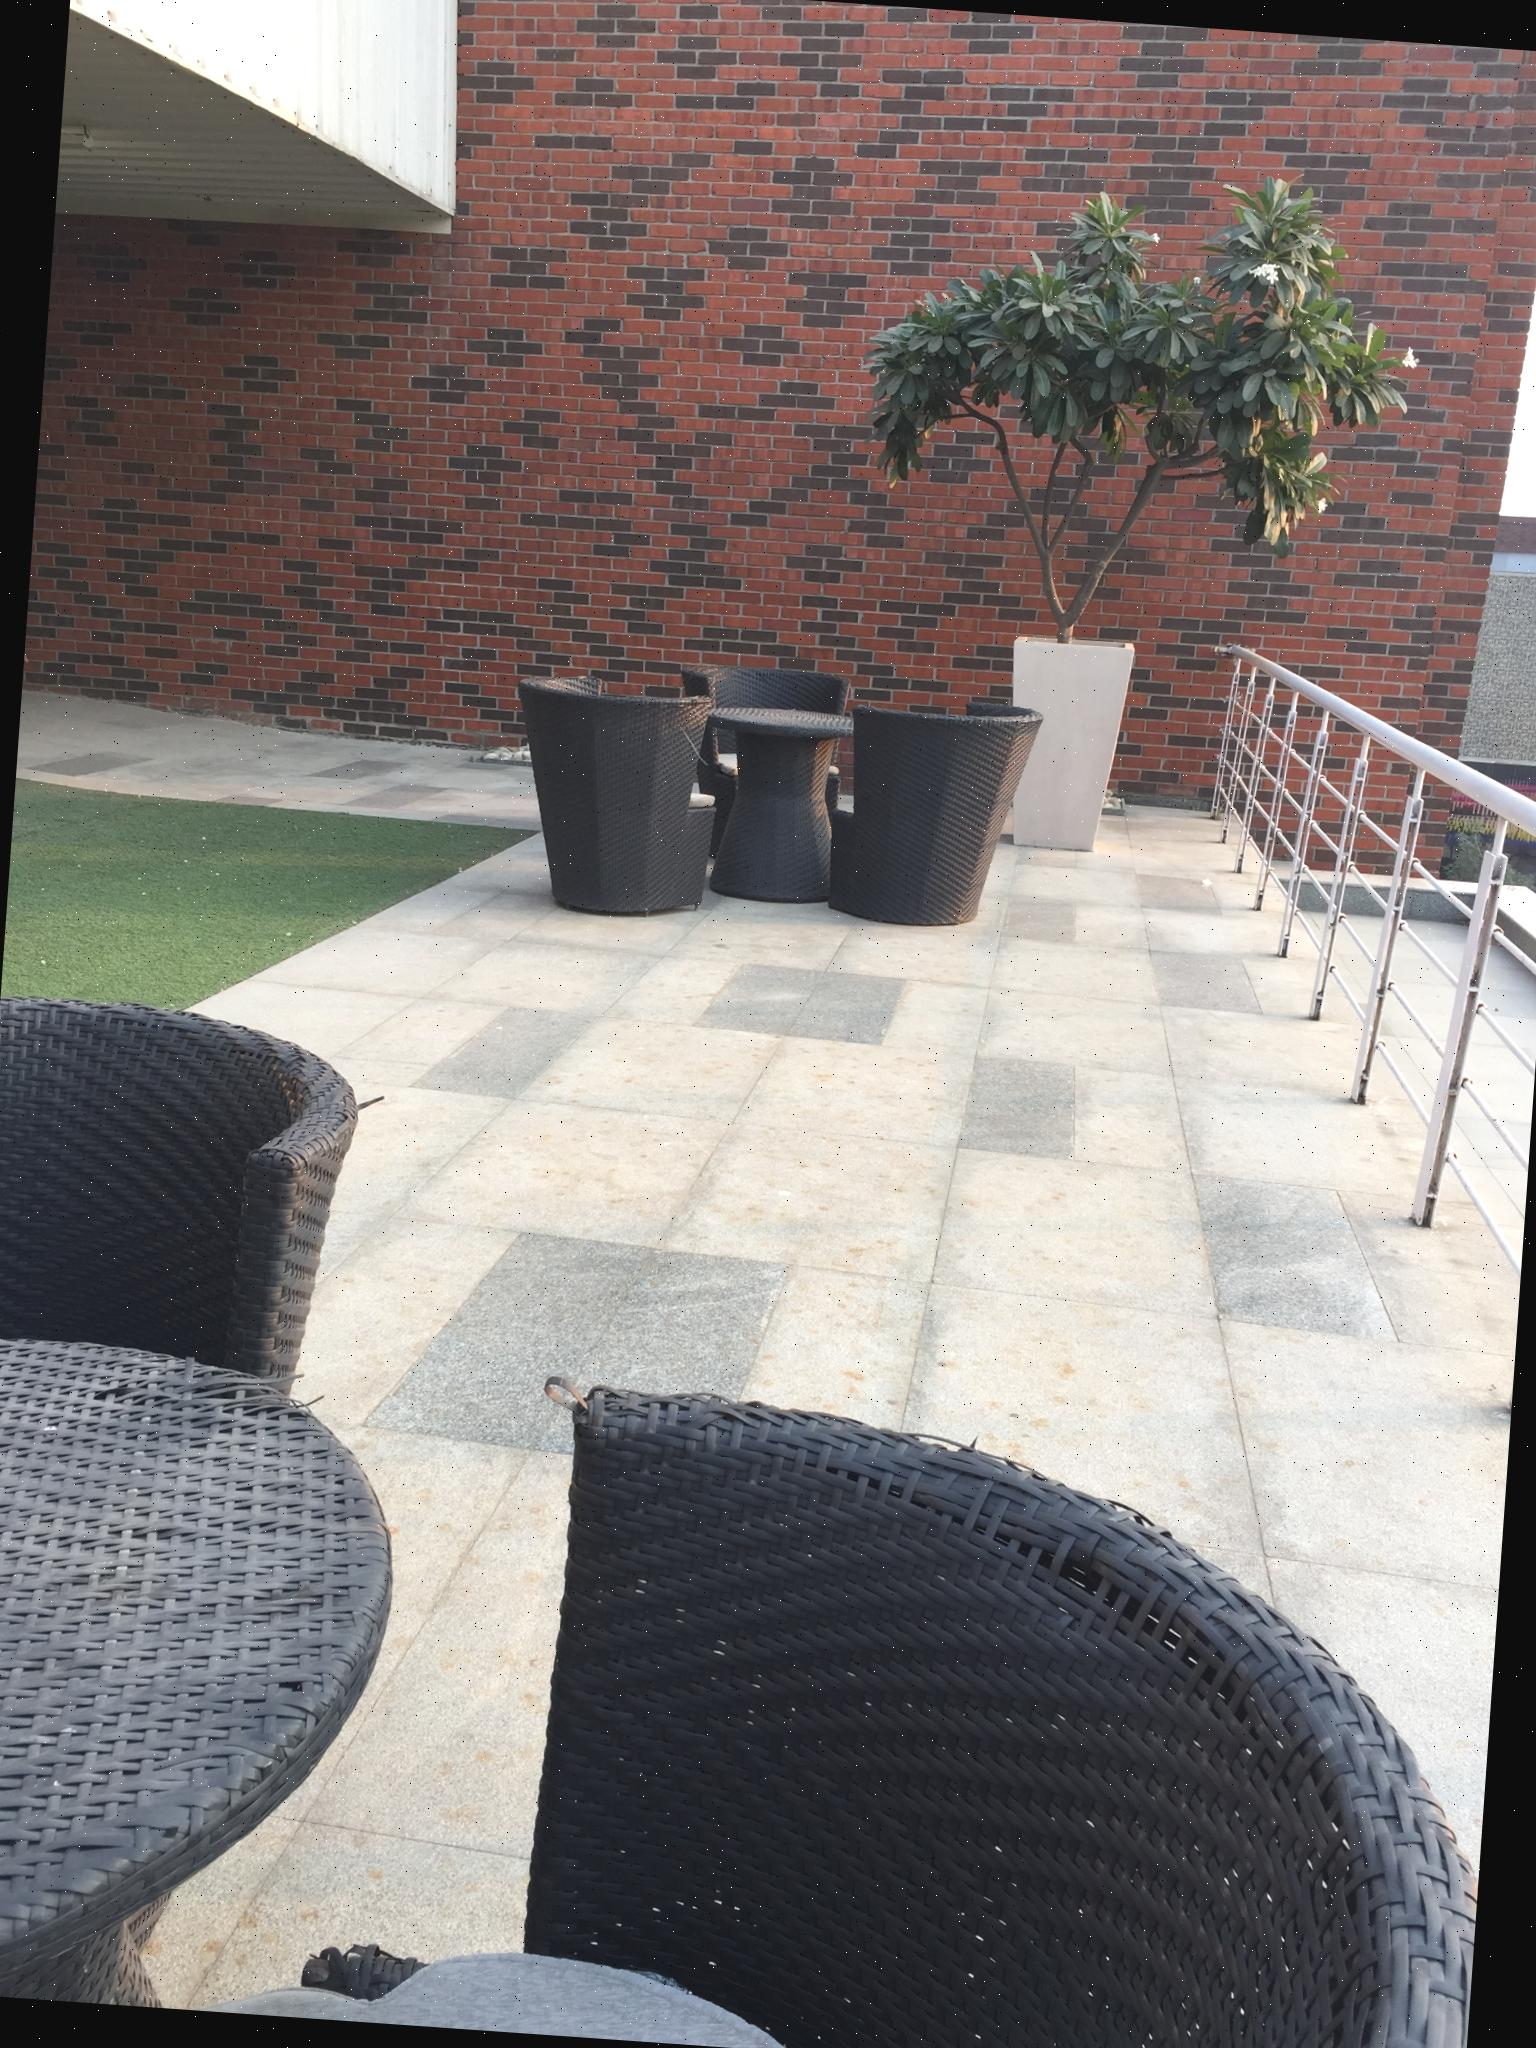chair: (369, 1332, 1510, 2048), (0, 964, 386, 1506), (487, 669, 715, 980), (828, 674, 1063, 937), (699, 651, 866, 855)
